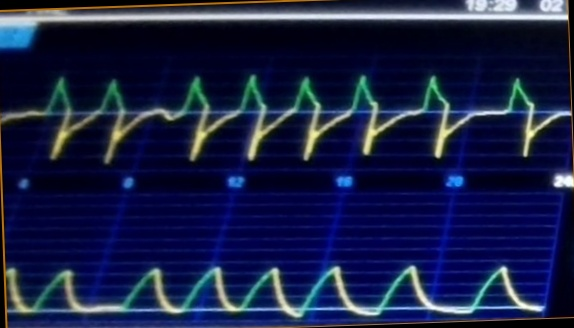Ineffective_effort Flow: (1, 66, 570, 163)
Ineffective_effort Volume: (9, 236, 543, 317)
